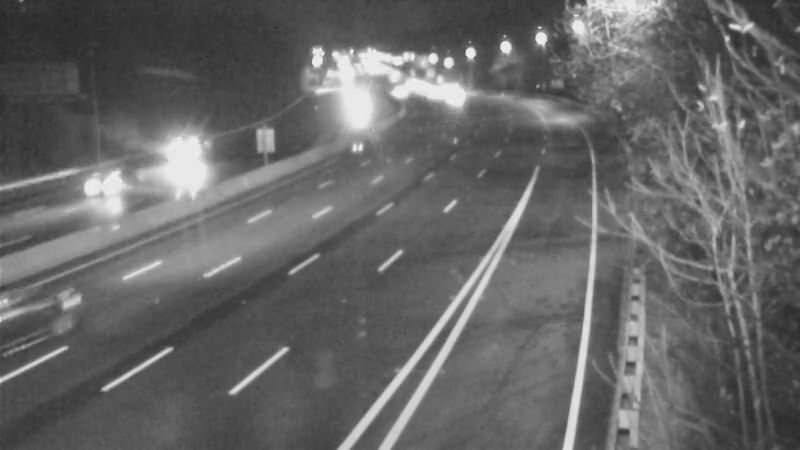vehicle: (1, 263, 93, 373), (71, 148, 151, 228), (148, 120, 228, 200), (426, 71, 476, 121), (331, 80, 381, 130)
